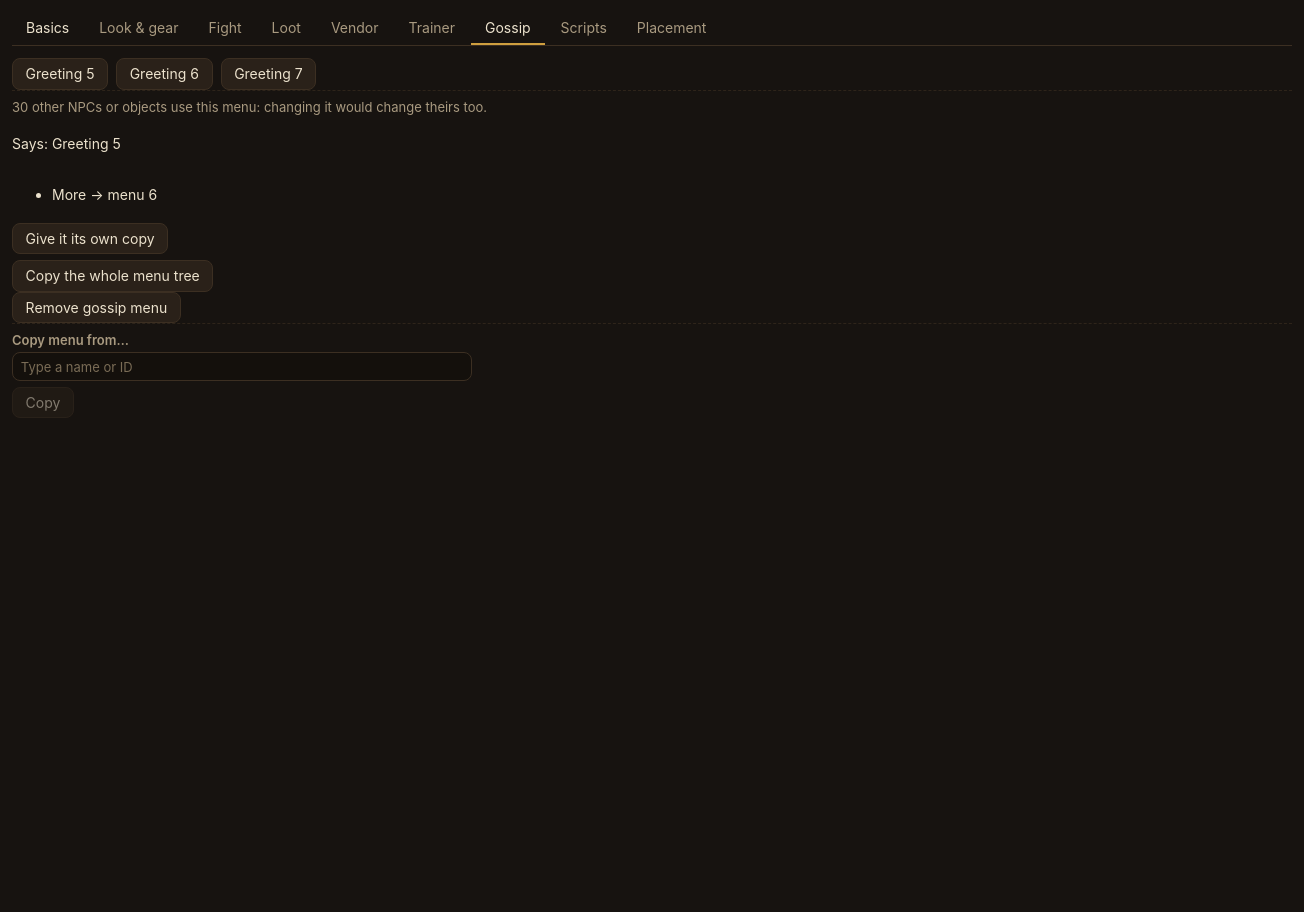
Test case: the Gossip tab: menus other NPCs use › gives the NPC its own copy of the menu and the locked menus only it opens, repointing, after asking about kept options
Click the button "Give it its own copy": (90, 238) [12,223,168,254]
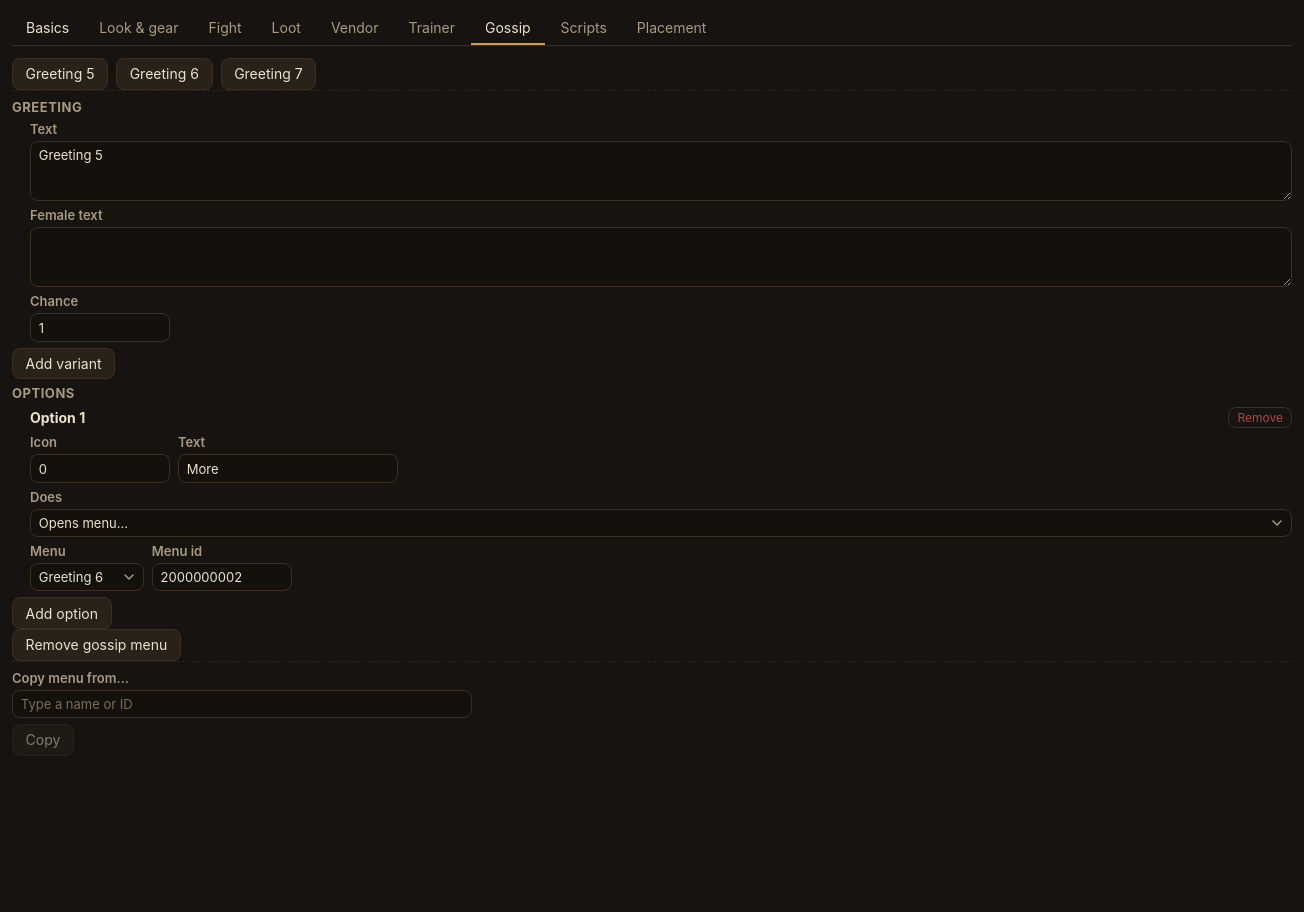
Expected: the button "Add option" is shown, [12,597,112,629]
